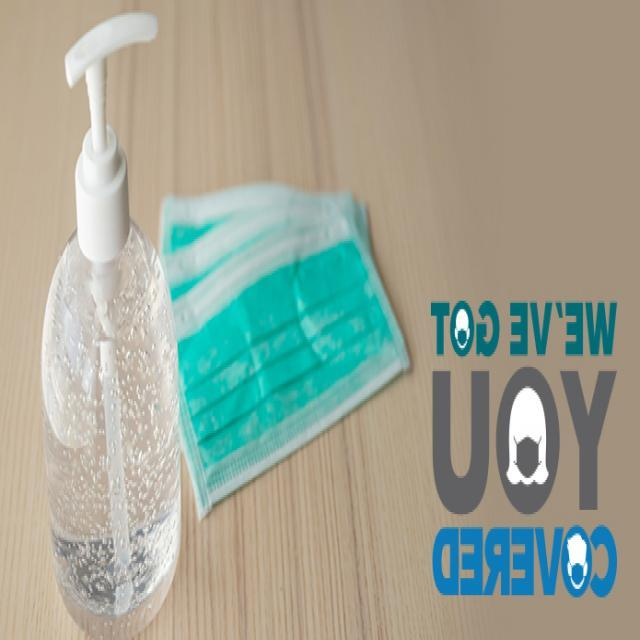face mask: (152, 166, 402, 516)
